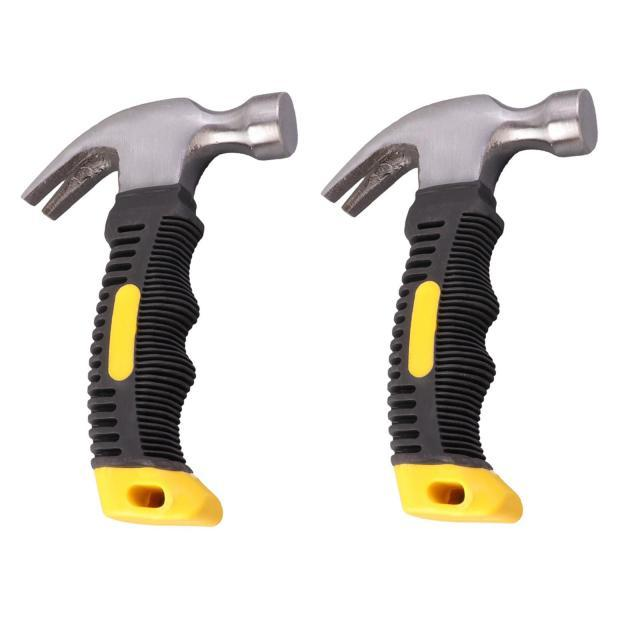hammer: (11, 86, 301, 534), (315, 85, 603, 532)
